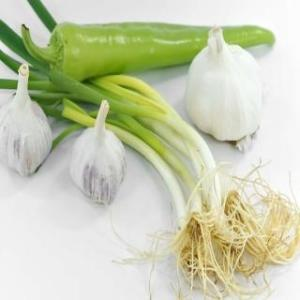garlic: (188, 32, 266, 144), (0, 71, 52, 177), (72, 103, 126, 204)
